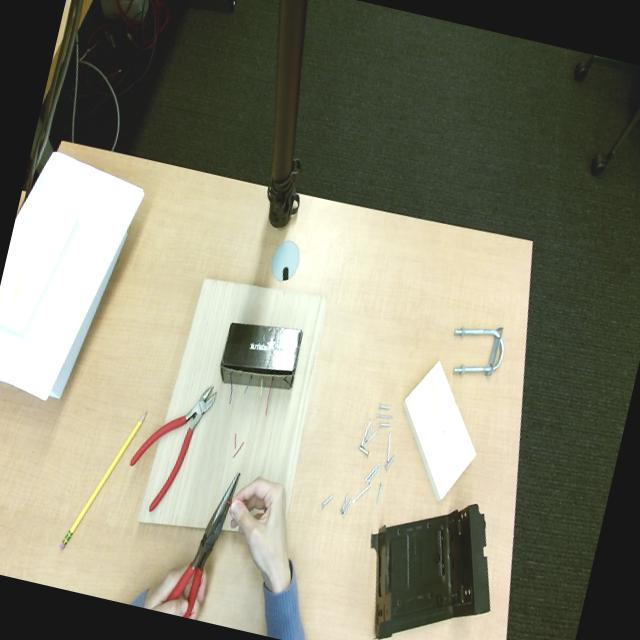pliers: (166, 473, 240, 618), (129, 387, 215, 511)
